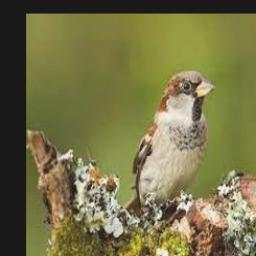Sparrow: (123, 71, 215, 218)
